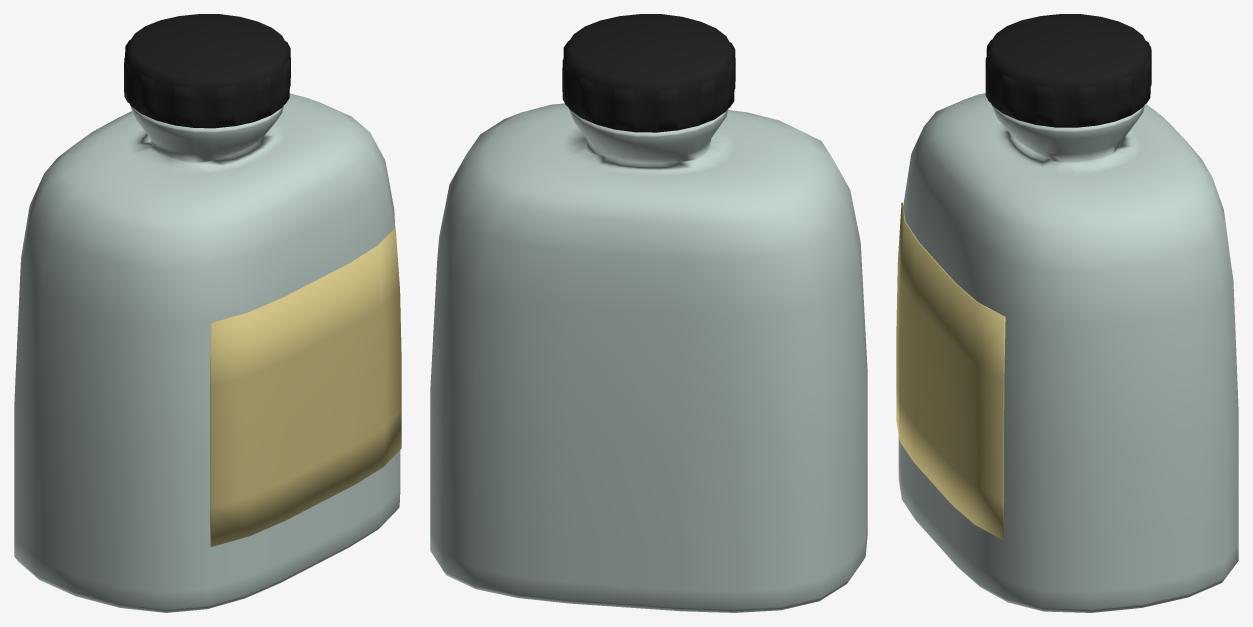
The picture shows the model from 3 angles, left to right: view 1: azimuth 30°, elevation 25°; view 2: azimuth 150°, elevation 25°; view 3: azimuth 270°, elevation 25°; orthographic projection. The views are drawn at different scales.
Parts seen in each view (by area): view 1: Cube.005; view 2: Cube.005; view 3: Cube.005.
Boxes of the visible parts, left/top/right/bottom form: Cube.005: left=14, top=14, right=401, bottom=612; Cube.005: left=430, top=14, right=867, bottom=612; Cube.005: left=896, top=14, right=1238, bottom=612.
Bounding box in the file's own units: 1110 × 1435 × 905.
